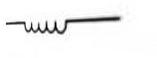inductor: (17, 14, 79, 36)
